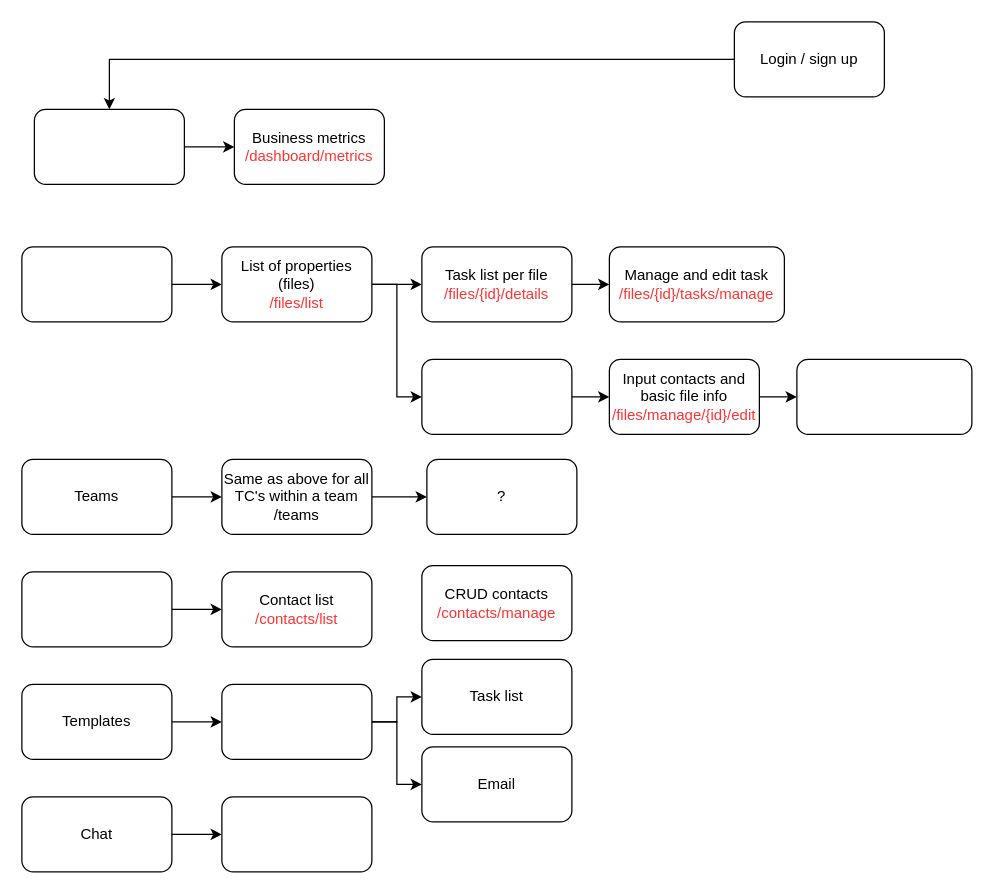
This 994x894 diagram has some shape labels left out. The shapes that lost their labels are listed below. From the top down, each one's centre as x and y in pixels, then its label:
(108,146): Home (Metrics dashboard)
(96,284): Files (Complete file manage sidebar)
(496,396): Add/edit File /files/manage
(884,396): Assign task list from template /files/manage/{id}/assign
(96,609): Contacts
(296,721): Add/Edit templates
(296,834): TBD
